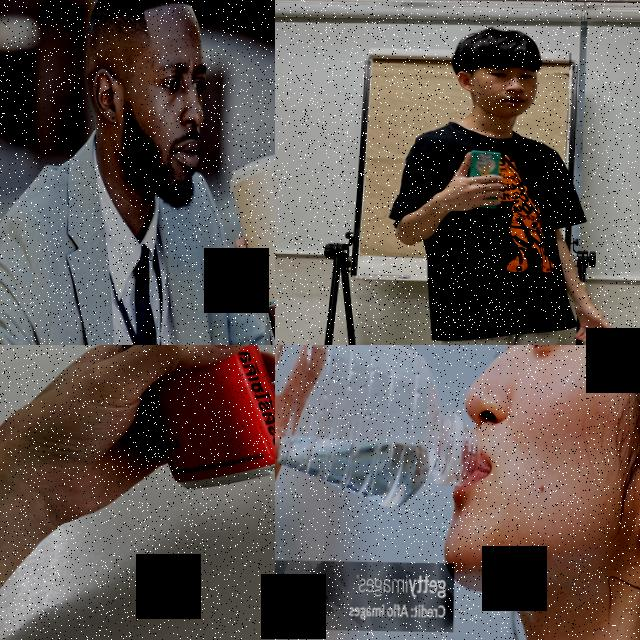bottle: (275, 345, 479, 514)
can: (77, 345, 275, 493)
cup: (226, 153, 275, 310)
